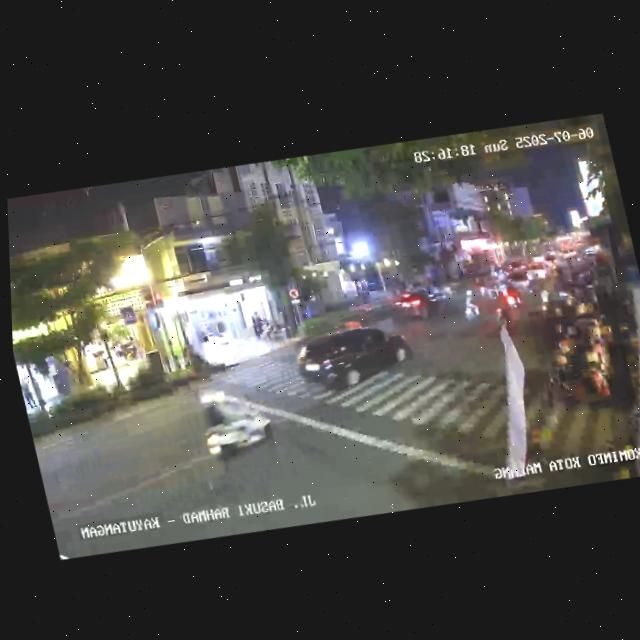car: (290, 312, 417, 410), (393, 283, 452, 328)
motorcycle: (190, 379, 283, 473), (487, 289, 515, 334), (457, 286, 485, 329), (533, 282, 557, 321), (503, 280, 527, 314)
person: (31, 377, 47, 410), (21, 380, 36, 413), (250, 311, 265, 342), (262, 312, 277, 342)
